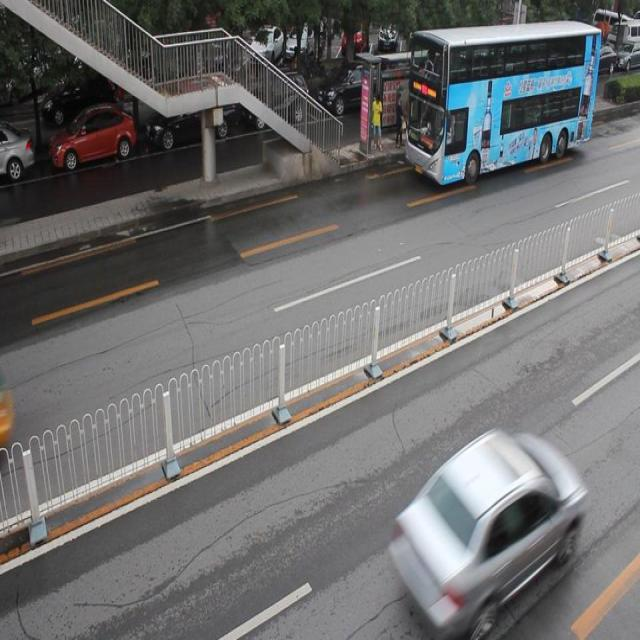car: (385, 423, 588, 640), (50, 105, 136, 172), (145, 93, 237, 152), (314, 63, 389, 123), (244, 72, 307, 128), (1, 125, 34, 181)
van: (402, 17, 599, 188)
